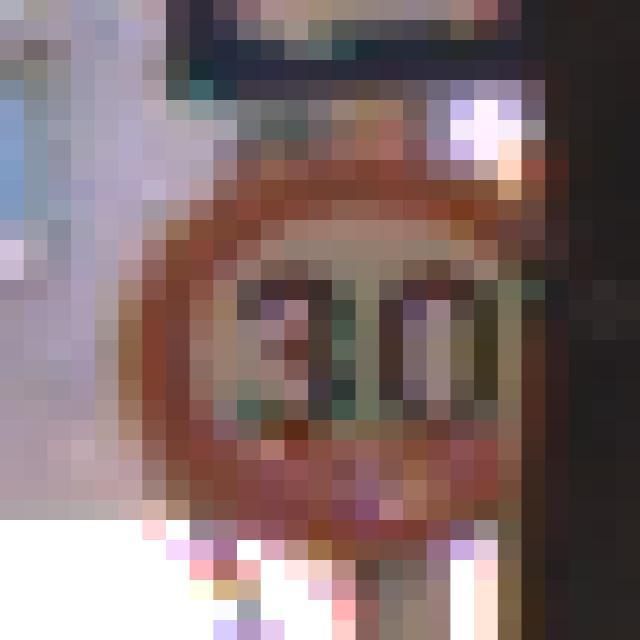Speed Limit -30-: (107, 110, 510, 530)
